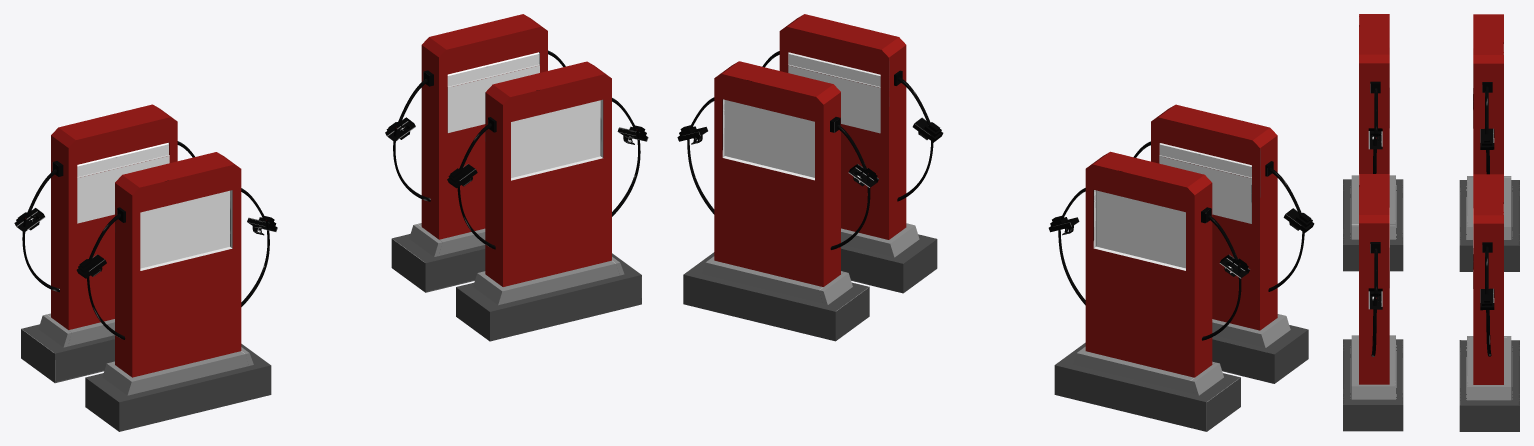
Rendered from gasTanks.fbx.
3 renders of one model, left to right at view 1: azimuth 30°, elevation 25°; view 2: azimuth 150°, elevation 25°; view 3: azimuth 270°, elevation 25°, orthographic. The views are drawn at different scales.
Parts seen in each view (by area): view 1: Tank.002, Tank.003, Tank, Tank.001; view 2: Tank.001, Tank, Tank.003, Tank.002; view 3: Tank.003, Tank, Tank.001, Tank.002.
Part boxes in pixels (x1,y1,x2,y2): Tank.002: (76, 152, 277, 431); Tank.003: (447, 61, 648, 341); Tank: (385, 14, 565, 292); Tank.001: (14, 104, 194, 383); Tank.001: (1048, 151, 1250, 431); Tank: (677, 61, 878, 341); Tank.003: (762, 14, 943, 293); Tank.002: (1133, 104, 1314, 383); Tank.003: (1343, 174, 1403, 431); Tank: (1459, 174, 1519, 431); Tank.001: (1459, 14, 1519, 271); Tank.002: (1343, 14, 1403, 271).
Bounding box in the file's own units: 1920 × 748 × 588.
1 material, 1 textured.
